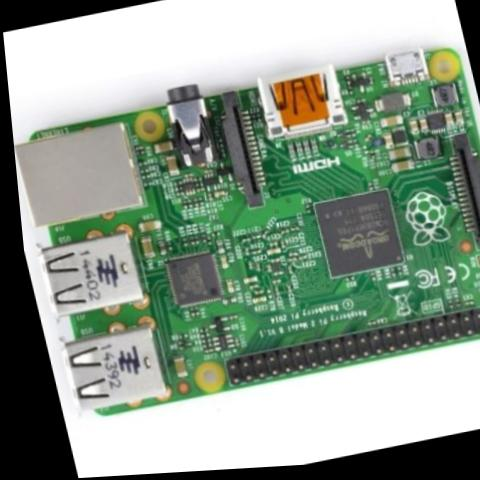Raspberry-Pi-2-Model-B: (4, 29, 480, 431)
